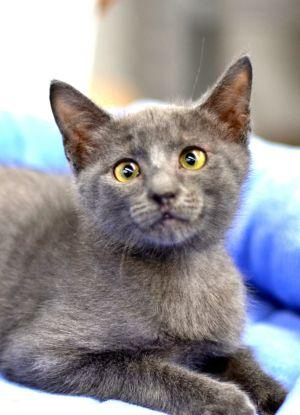rblue: (46, 50, 266, 266)
